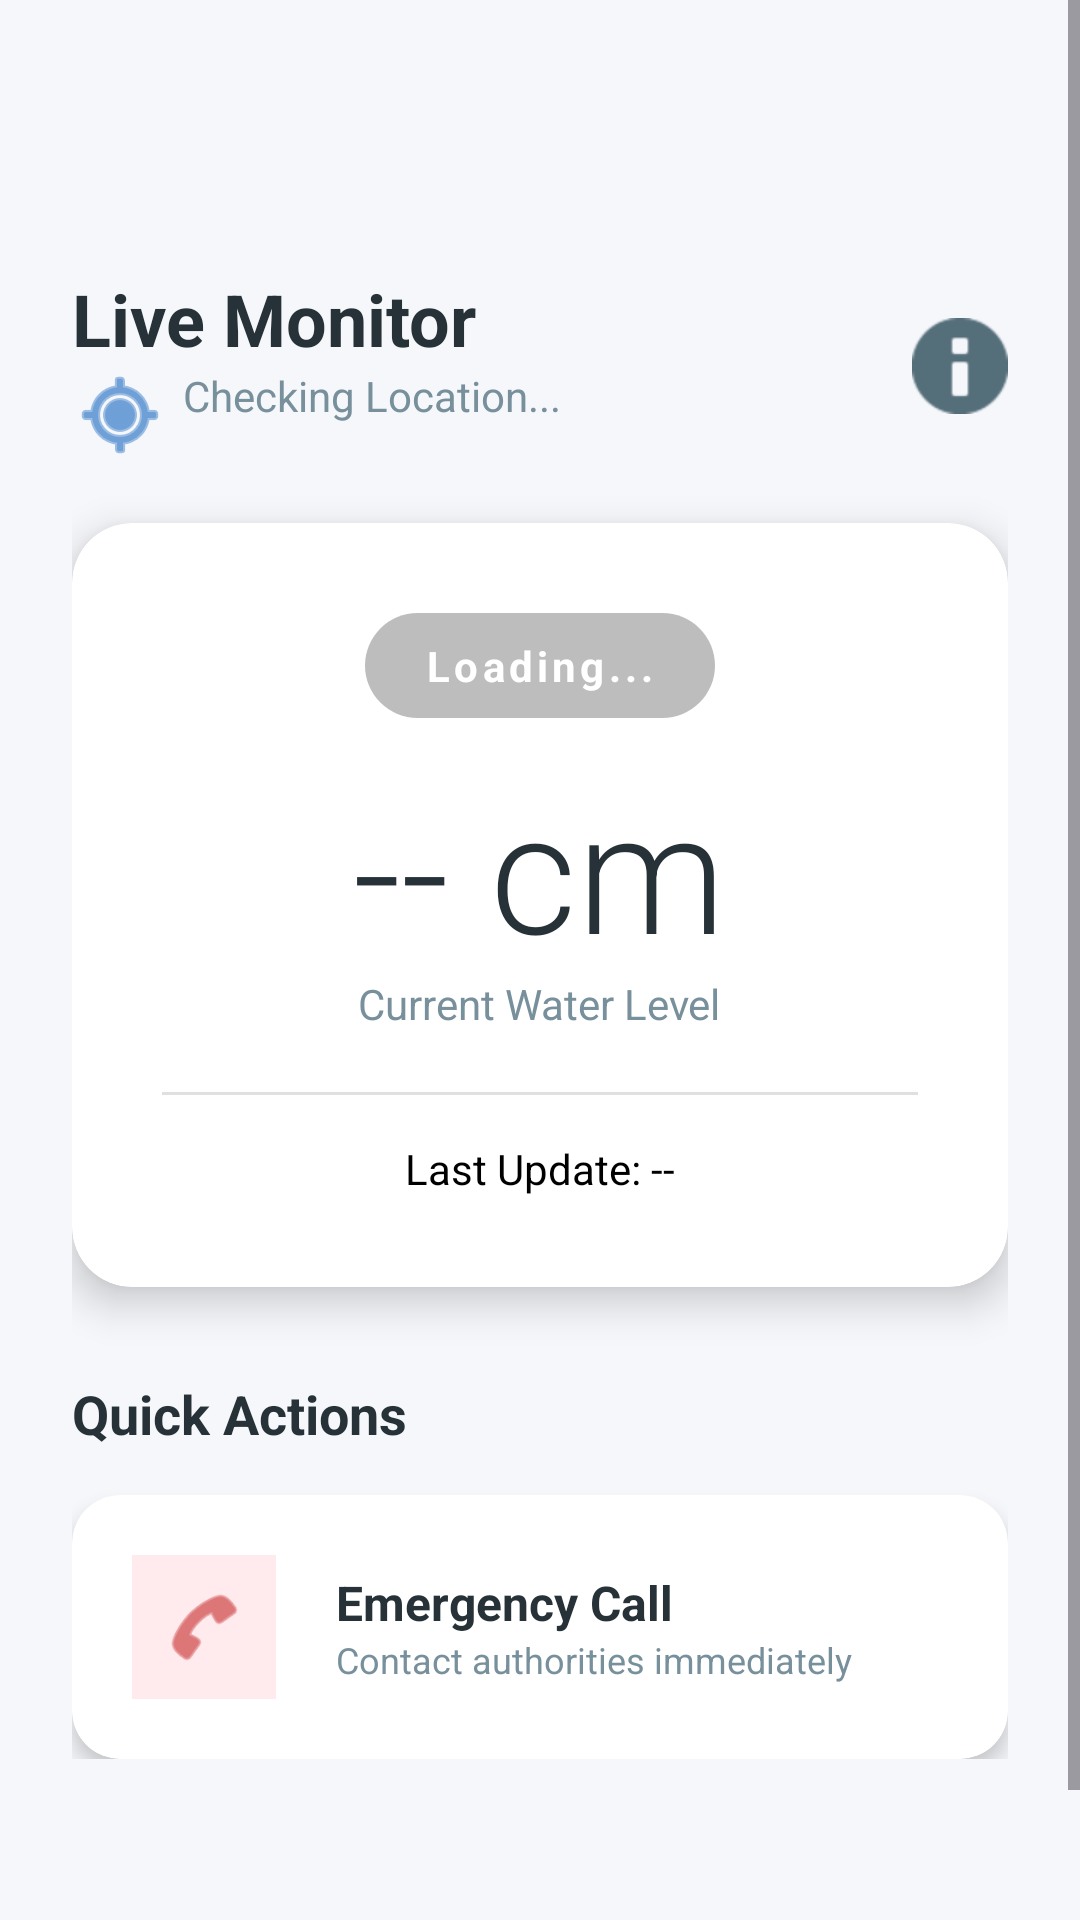

Icons on this 1080px x 1920px Android screen, each with its box as (x1, y1, x2, y2):
info: (912, 318, 1008, 414)
